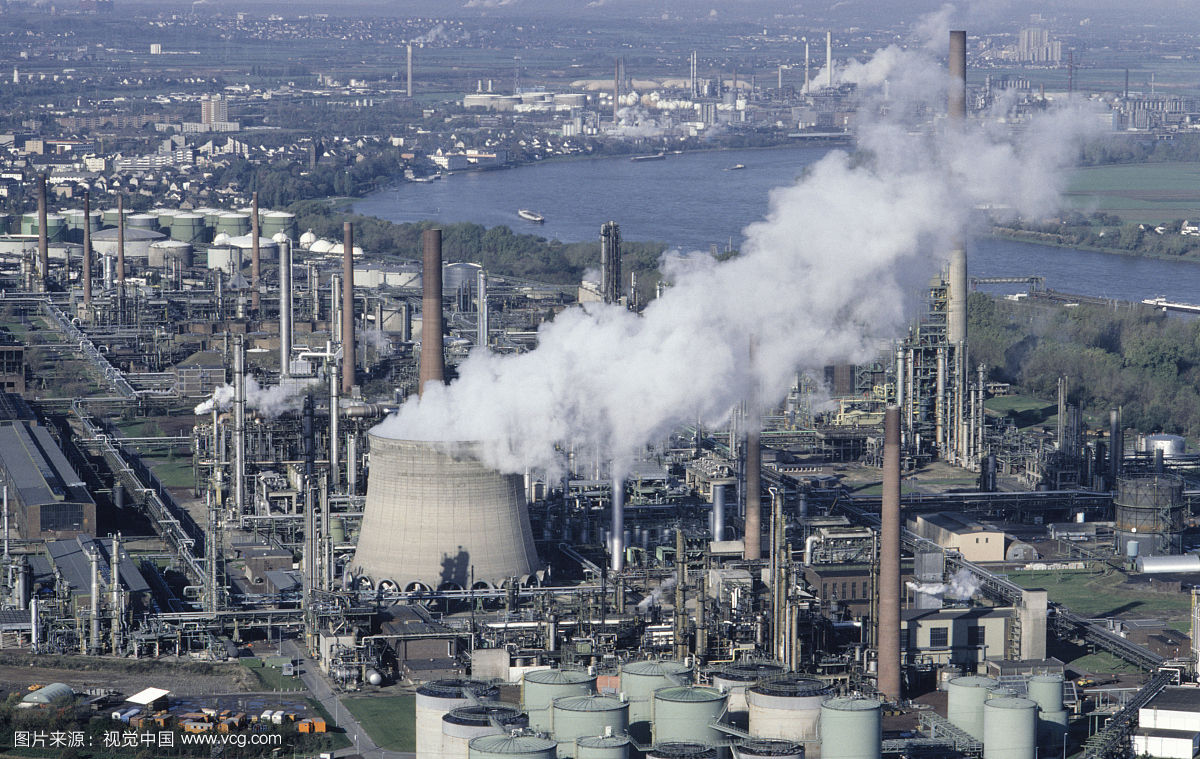dust: (371, 283, 770, 471)
